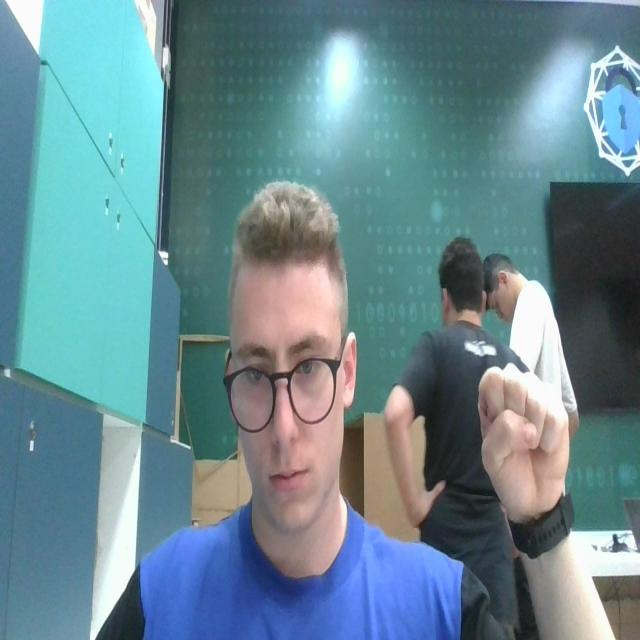S: (472, 362, 576, 516)
